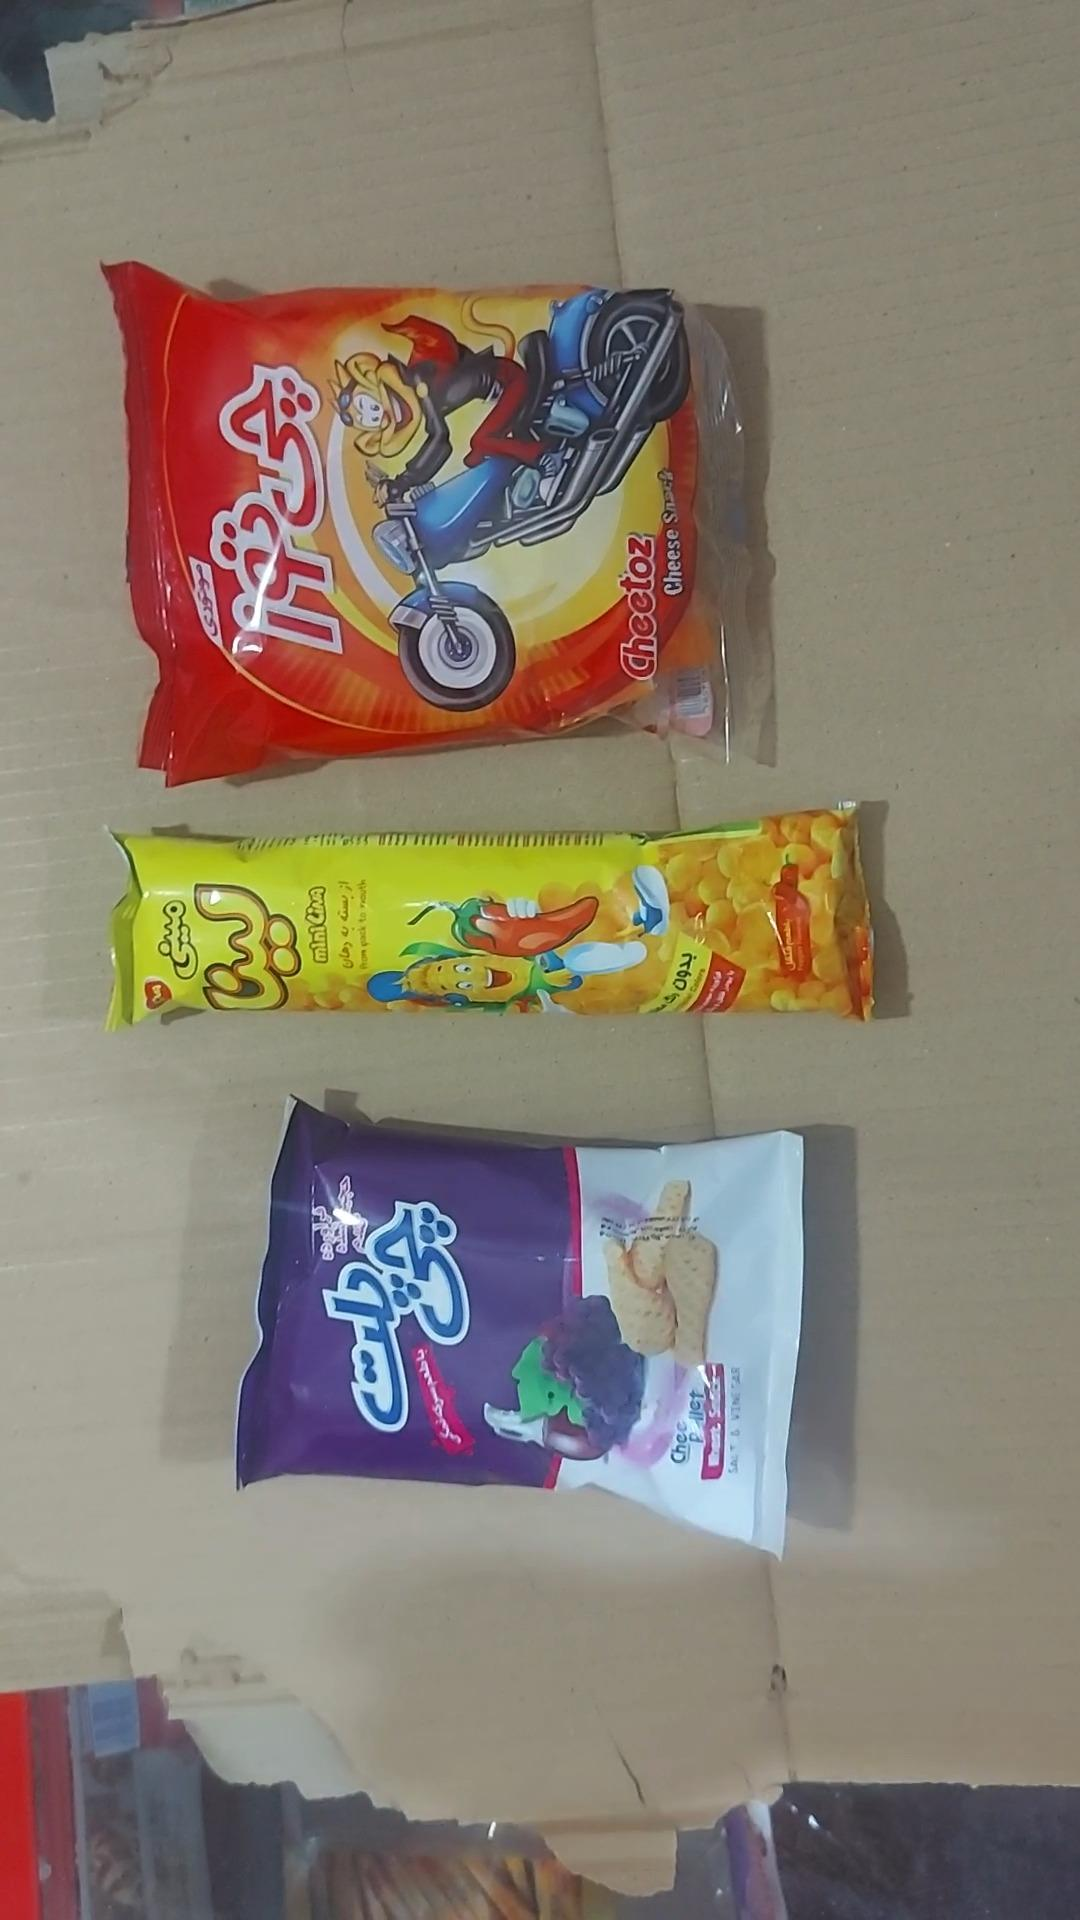Chee pellet vinegar: (235, 1101, 808, 1557)
Cheetoz snack 30g: (103, 265, 744, 785)
Mini Lina: (107, 806, 872, 1027)
